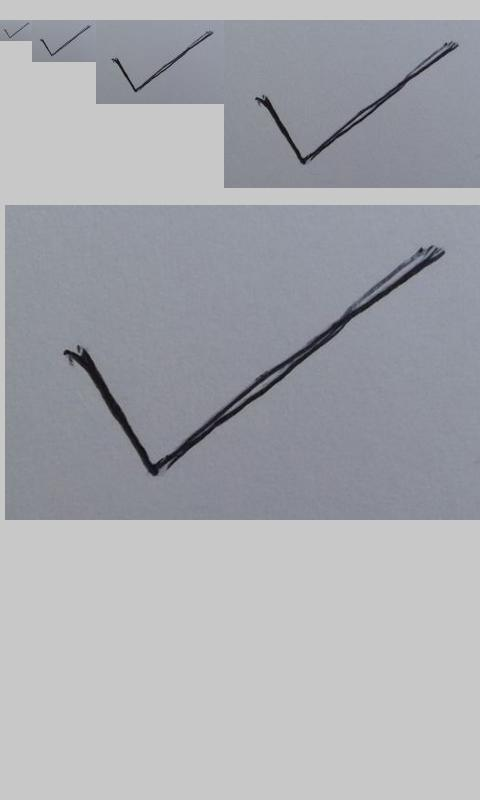check_box: (69, 245, 444, 478), (258, 40, 459, 165), (113, 31, 213, 92), (40, 25, 90, 57), (4, 23, 28, 39)
